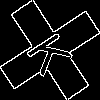K: (25, 25, 82, 78)
